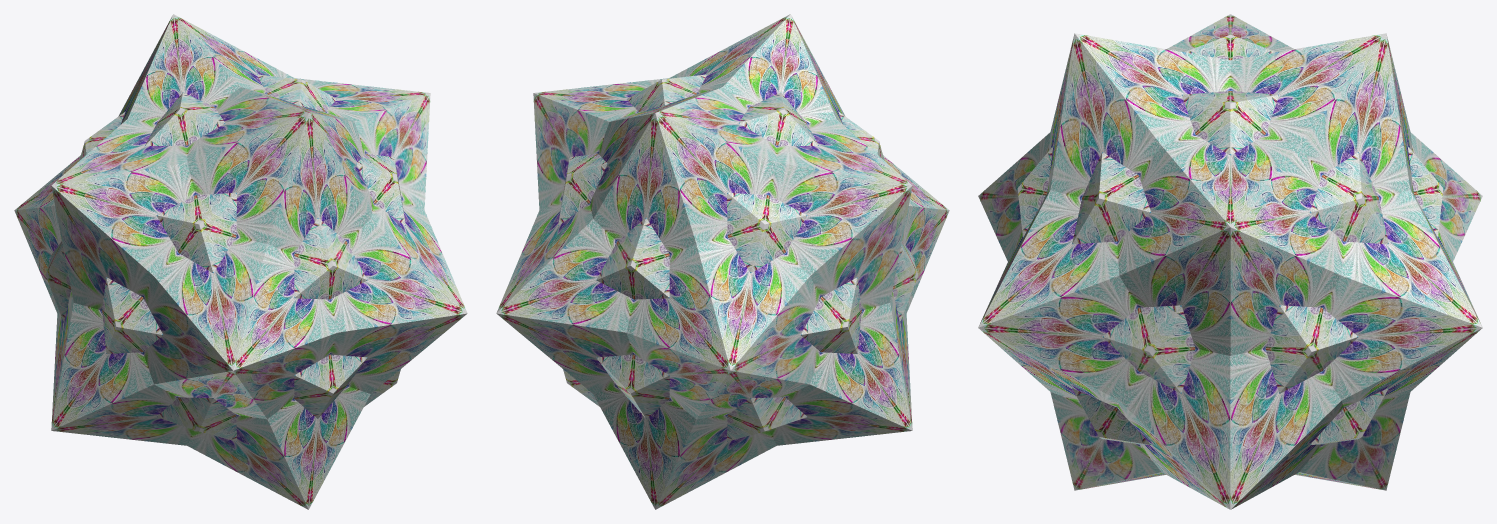
Rendered from GreatDitrigonalDodecacronicHexecontahedron8.obj.
The picture shows the model from 3 angles, left to right: view 1: azimuth 30°, elevation 25°; view 2: azimuth 150°, elevation 25°; view 3: azimuth 270°, elevation 25°; orthographic projection. The views are drawn at different scales.
Bounding box in the file's own units: 2.35 × 2.35 × 2.35.
1 material, 1 textured.
